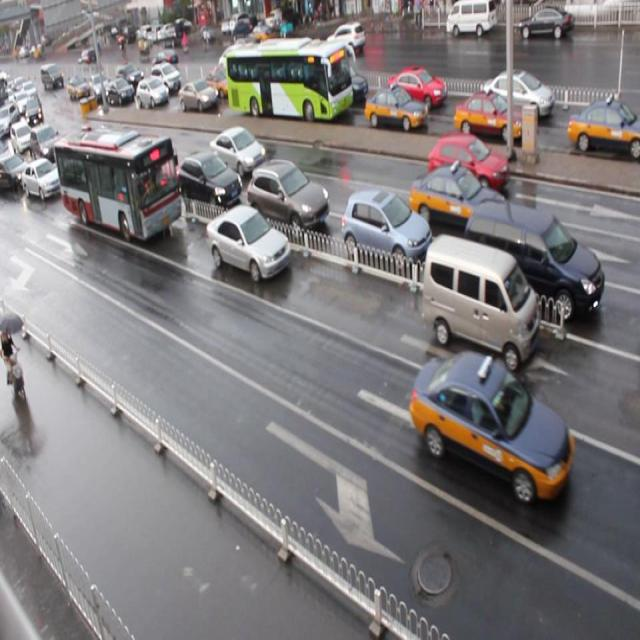car: (410, 348, 572, 504), (410, 163, 508, 241), (340, 188, 430, 272), (206, 202, 290, 283), (248, 159, 328, 233), (428, 132, 509, 196), (486, 69, 562, 124), (459, 91, 532, 146), (571, 102, 640, 158), (177, 150, 242, 208), (364, 87, 426, 135), (211, 126, 265, 176), (386, 68, 446, 112), (132, 145, 179, 194), (322, 61, 368, 108), (23, 158, 64, 201), (87, 135, 125, 174), (52, 134, 85, 172), (179, 80, 218, 112), (1, 153, 31, 194), (149, 63, 182, 96), (137, 78, 168, 109), (29, 128, 57, 162), (205, 68, 232, 99), (116, 62, 142, 90), (108, 78, 133, 105), (89, 73, 110, 102)
truck: (462, 195, 603, 326), (421, 233, 539, 370)
van: (54, 128, 185, 244), (225, 37, 354, 122)
